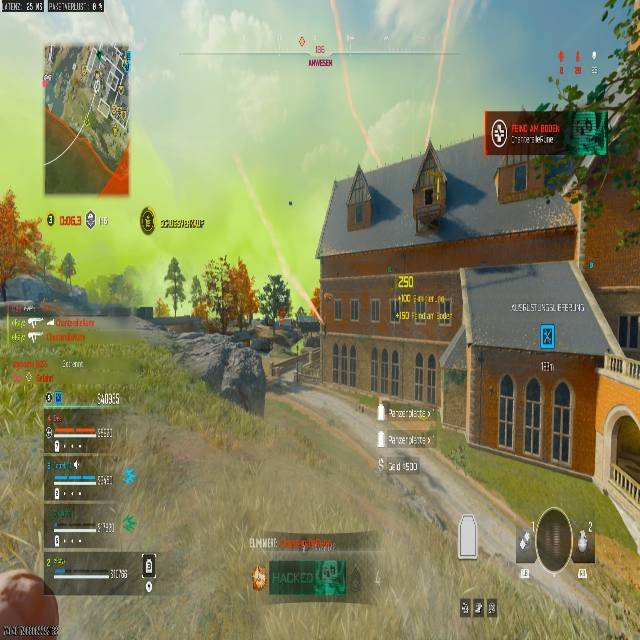player: (162, 259, 184, 312)
